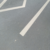others: (1, 1, 50, 36)
